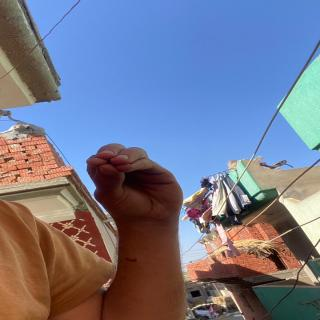HA: (79, 134, 188, 221)
